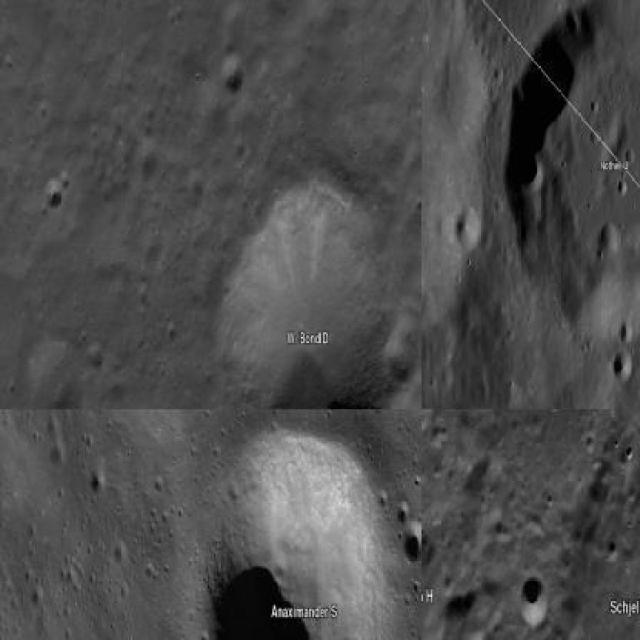crater: (504, 0, 638, 352), (220, 177, 400, 408), (205, 432, 400, 638), (23, 338, 83, 408), (422, 517, 451, 638), (517, 577, 548, 625), (219, 51, 246, 95), (455, 206, 480, 252), (402, 522, 420, 563), (612, 351, 634, 382), (44, 178, 64, 210)
